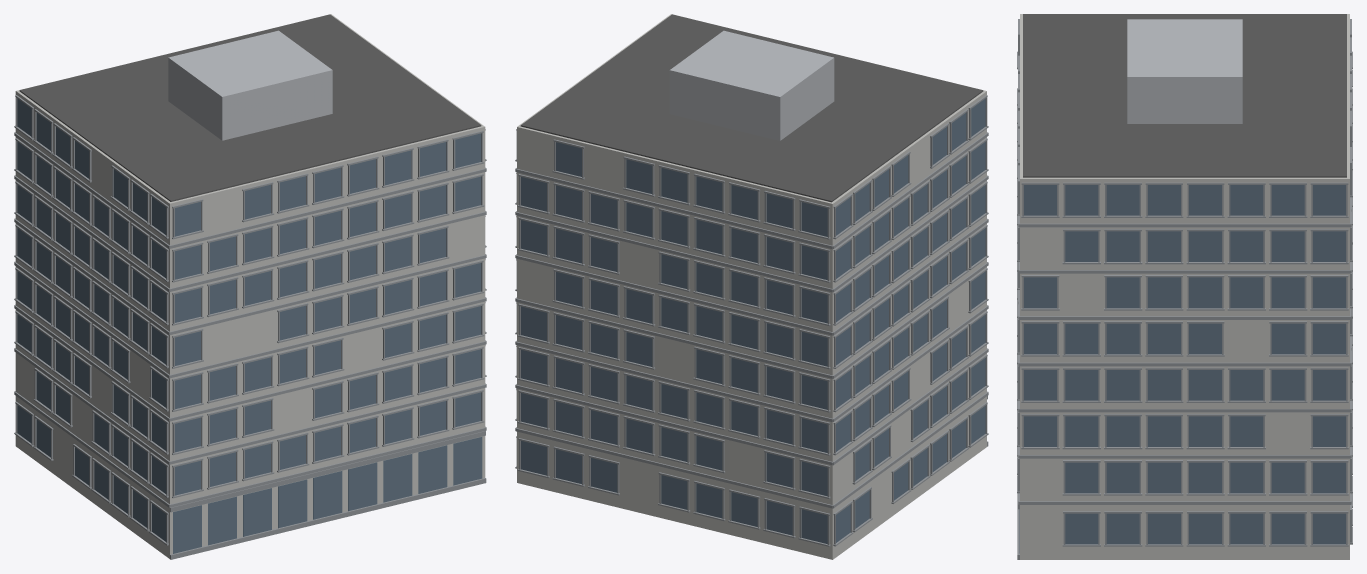
File: SM_Office_8F_A.fbx
The picture shows the model from 3 angles, left to right: view 1: azimuth 30°, elevation 25°; view 2: azimuth 150°, elevation 25°; view 3: azimuth 270°, elevation 25°; orthographic projection. The views are drawn at different scales.
Parts seen in each view (by area): view 1: SM_Office_8F_A_LOD0; view 2: SM_Office_8F_A_LOD0; view 3: SM_Office_8F_A_LOD0.
Part boxes in pixels (bbox=[...]): SM_Office_8F_A_LOD0: bbox=[14, 14, 486, 559]; SM_Office_8F_A_LOD0: bbox=[515, 14, 988, 559]; SM_Office_8F_A_LOD0: bbox=[1017, 14, 1352, 559].
Size of what is drawn, in the model's own units: 26.36 by 31.55 by 22.36.
